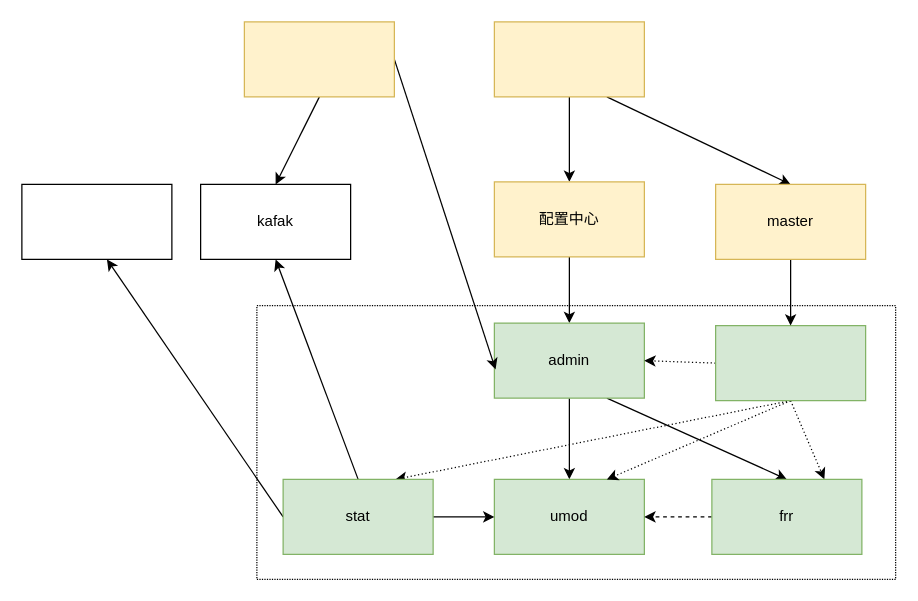
Image size: 918x601. Some labels were removed from this diagram. The centre of each missing label's shape, as x and y in pixels:
"fc" belongs at (318,59).
"oss" belongs at (568,59).
"worker" belongs at (790,362).
"计费" belongs at (96,221).
